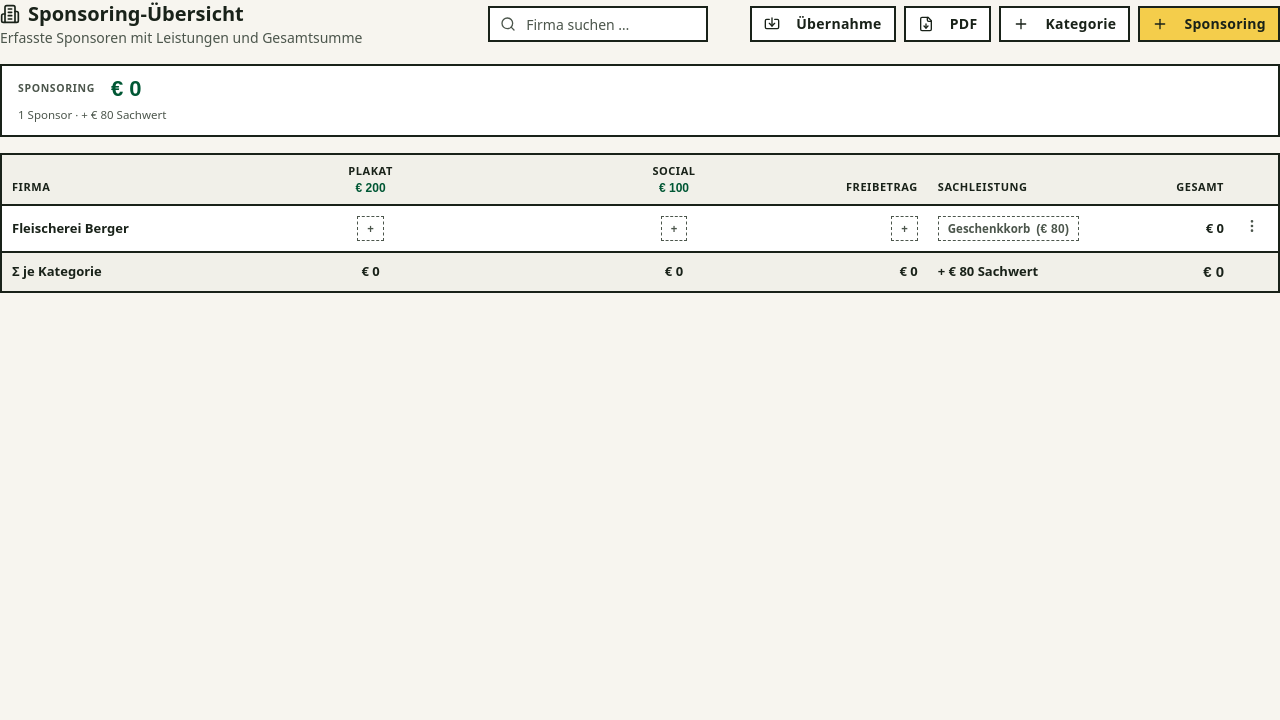
Test: SponsoringsSection — Zellklick schreibt › entfernt eine Sachleistung samt Schätzwert
The image size is (1280, 720).
Click the button "Geschenkkorb (€ 80)". click: [1024, 228]
box: x1=938 y1=207 x2=1109 y2=250
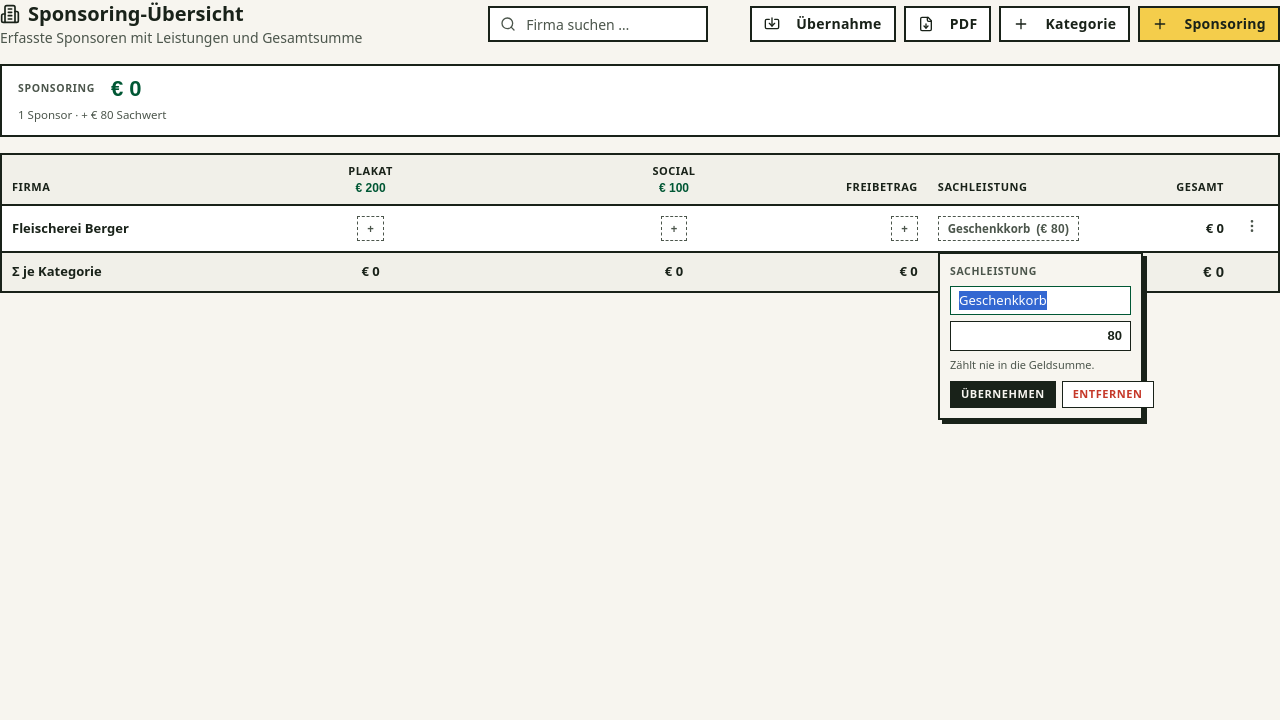
Click the button "Entfernen". click: [1108, 395]
box: x1=1062 y1=381 x2=1154 y2=408
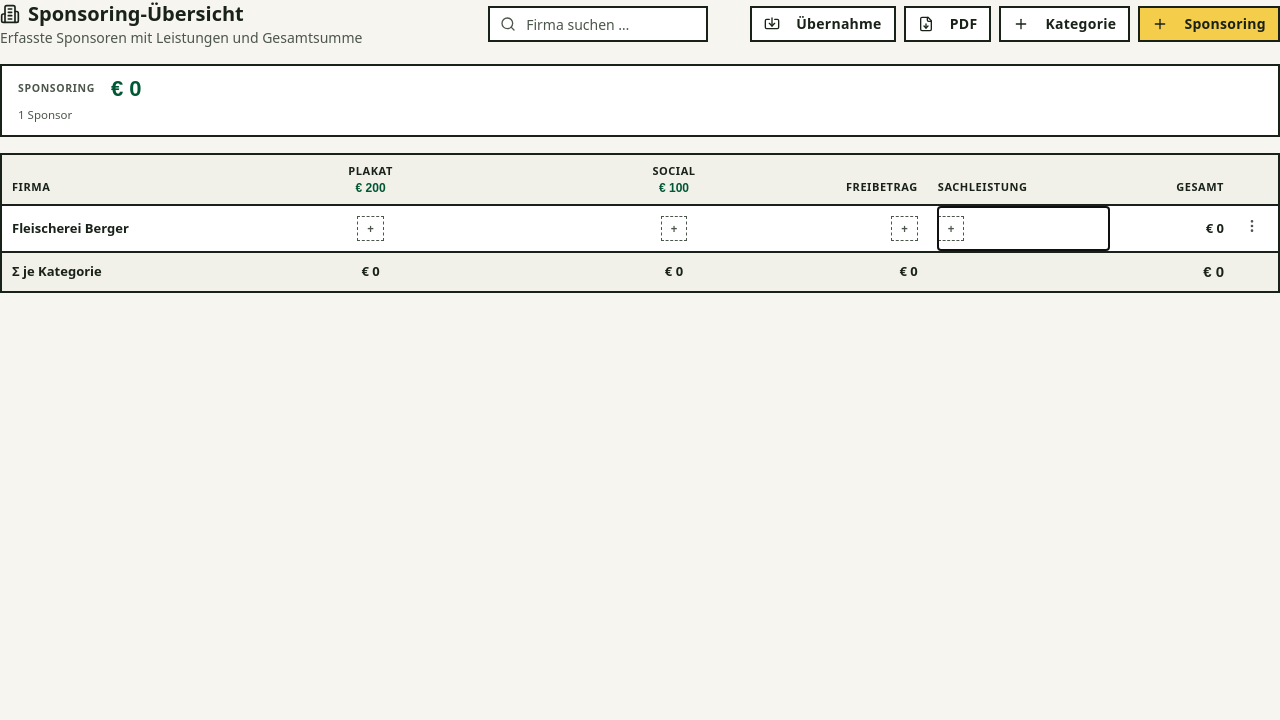
Check: the text "Sachwert" is gone
